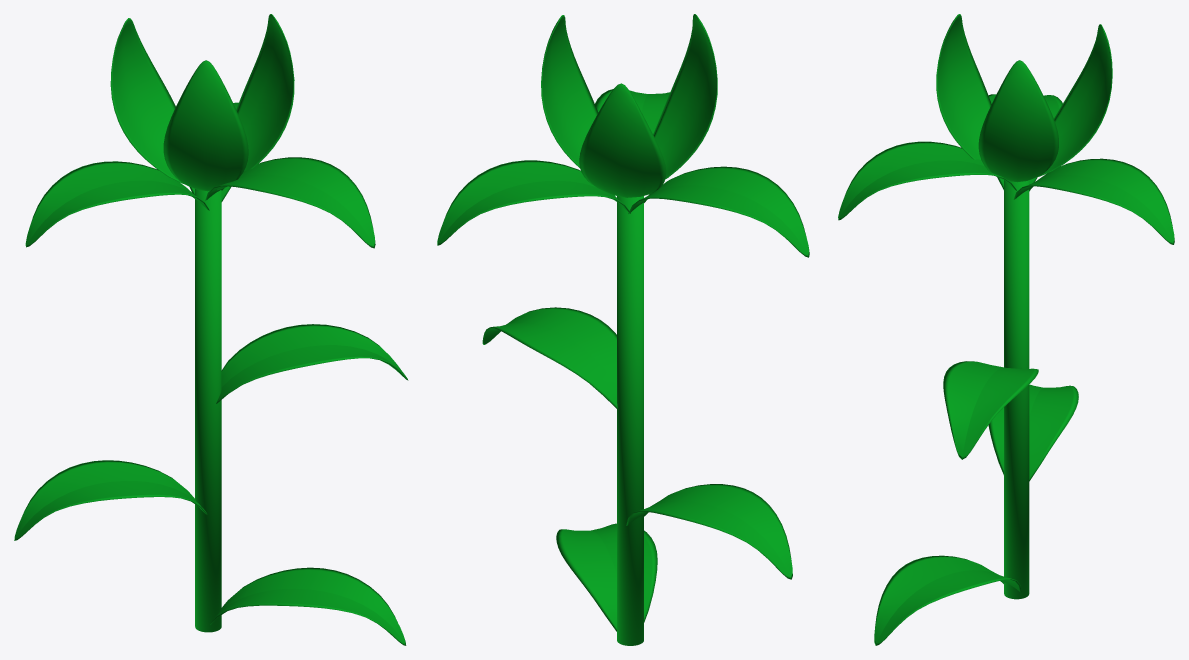
Rendered from EmptyPlant2.fbx.
3 renders of one model, left to right at view 1: azimuth 30°, elevation 25°; view 2: azimuth 150°, elevation 25°; view 3: azimuth 270°, elevation 25°, orthographic. The views are drawn at different scales.
Parts seen in each view (by area): view 1: EmptyPlant2; view 2: EmptyPlant2; view 3: EmptyPlant2.
Part boxes in pixels (box(x1,y1,x2,y2)): EmptyPlant2: box(14, 14, 408, 645); EmptyPlant2: box(437, 14, 809, 645); EmptyPlant2: box(838, 14, 1174, 645).
Size of the model in its own units: 2.22 by 1.95 by 3.62.
